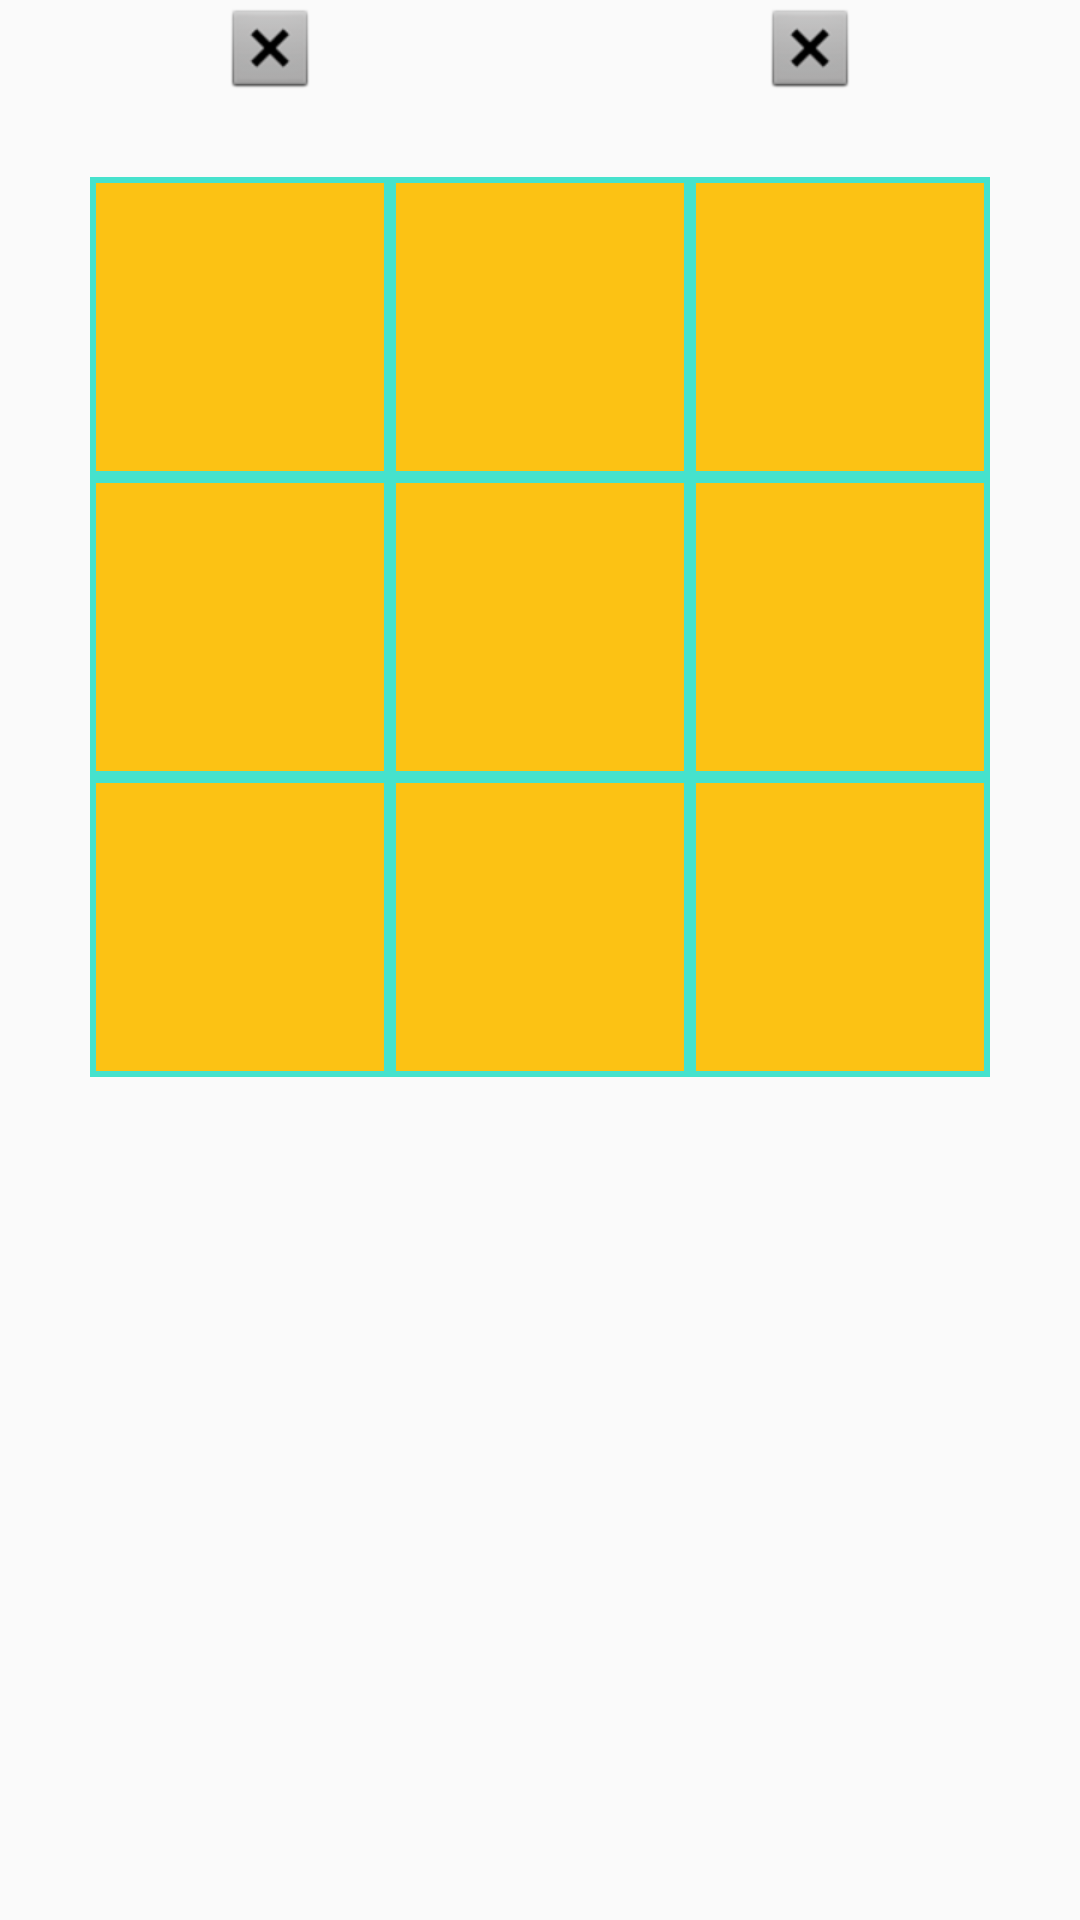

Named icons in this screenshot (1080x1920) and their centers, point (x, y):
cross icon: point (270, 48)
